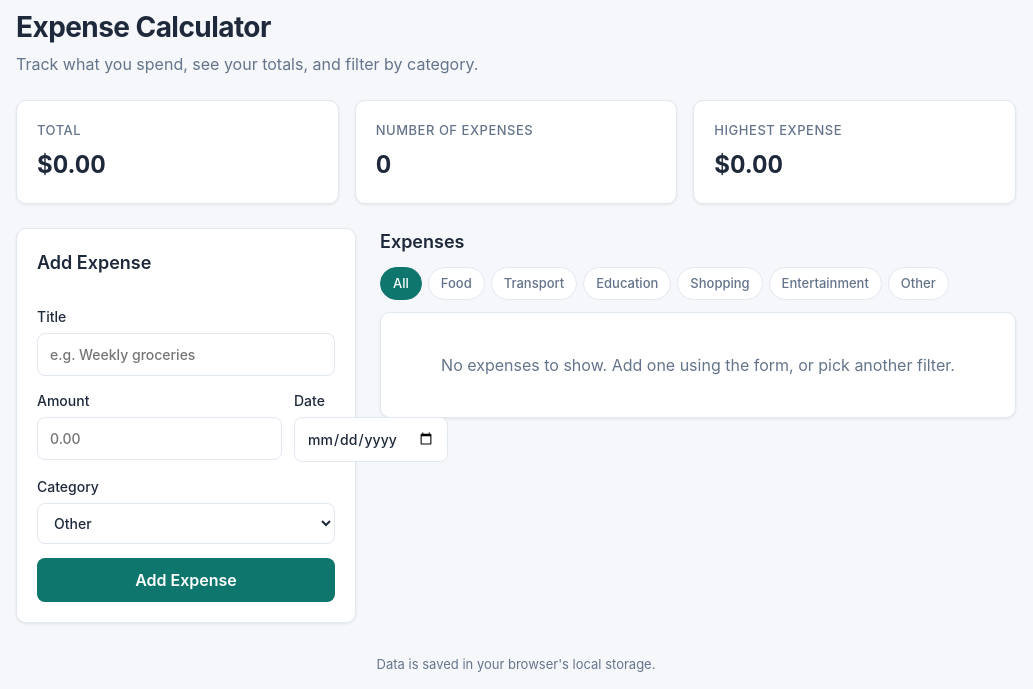
Test: App integration › deletes an expense
The image size is (1033, 689).
In the field labelled "Title": (186, 354) [37,332,335,376], type "Movie ticket"
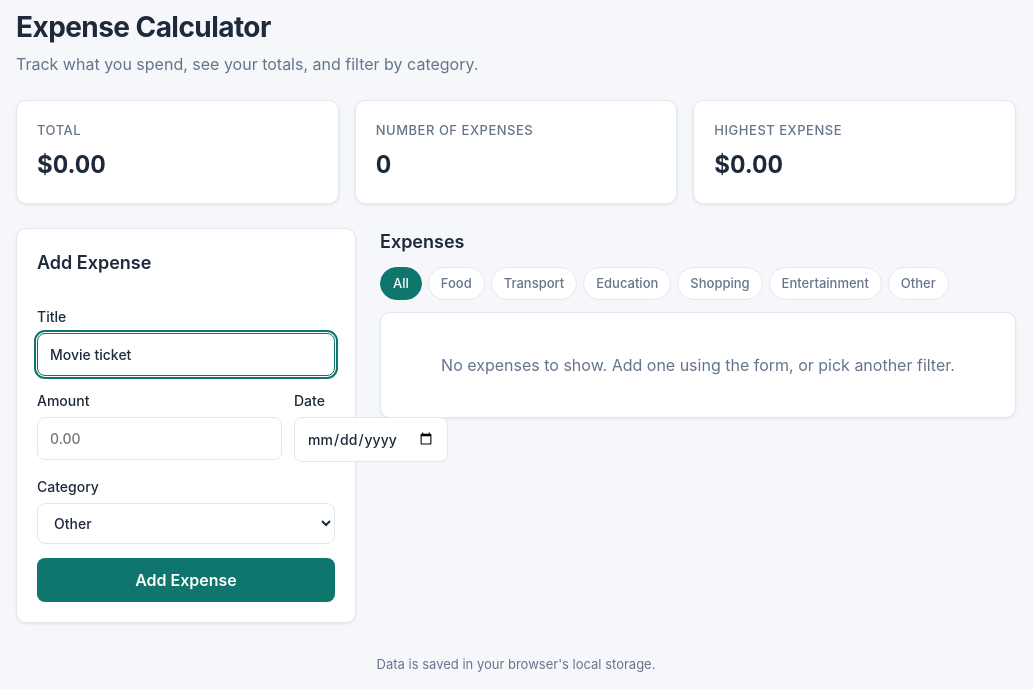
In the number field labelled "Amount": (160, 438) [37,416,282,460], type "3.50"
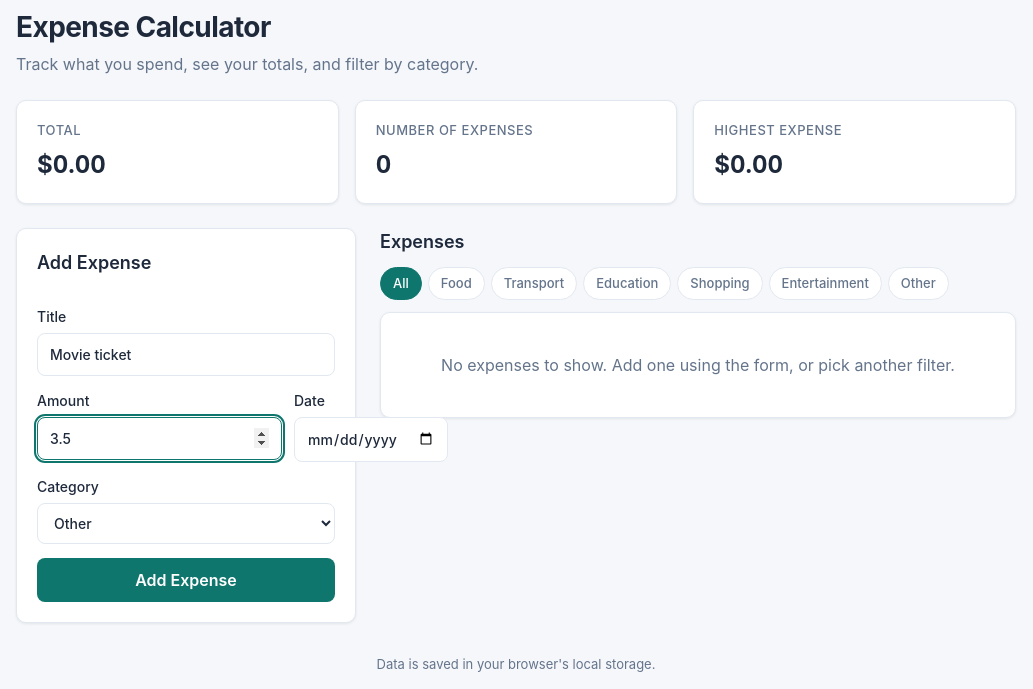
Select "Food" in the dropdown labelled "Category": (186, 523) [37,502,335,544]
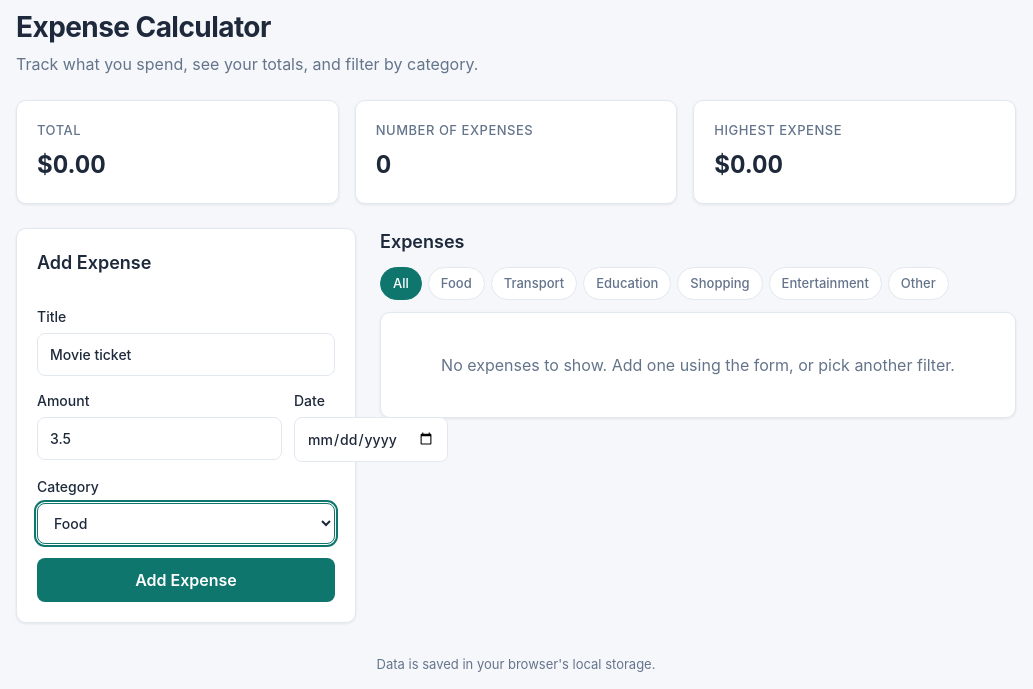
In the date field labelled "Date": (371, 439) [294,416,448,462], type "2026-11-20"
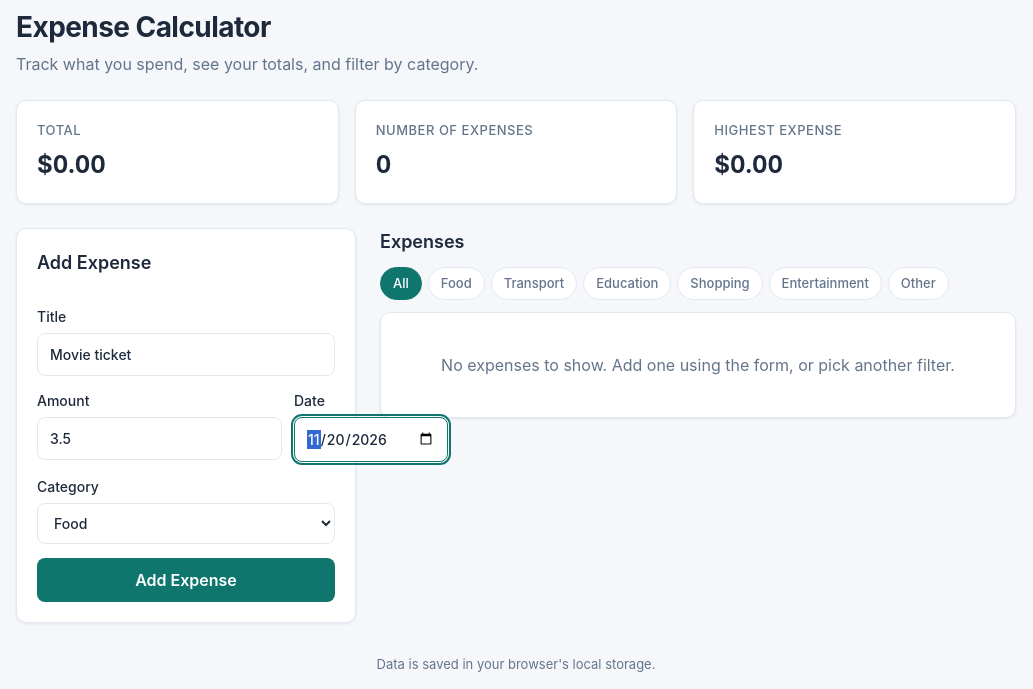
Click the button "Add Expense": (186, 580) [37,558,335,602]
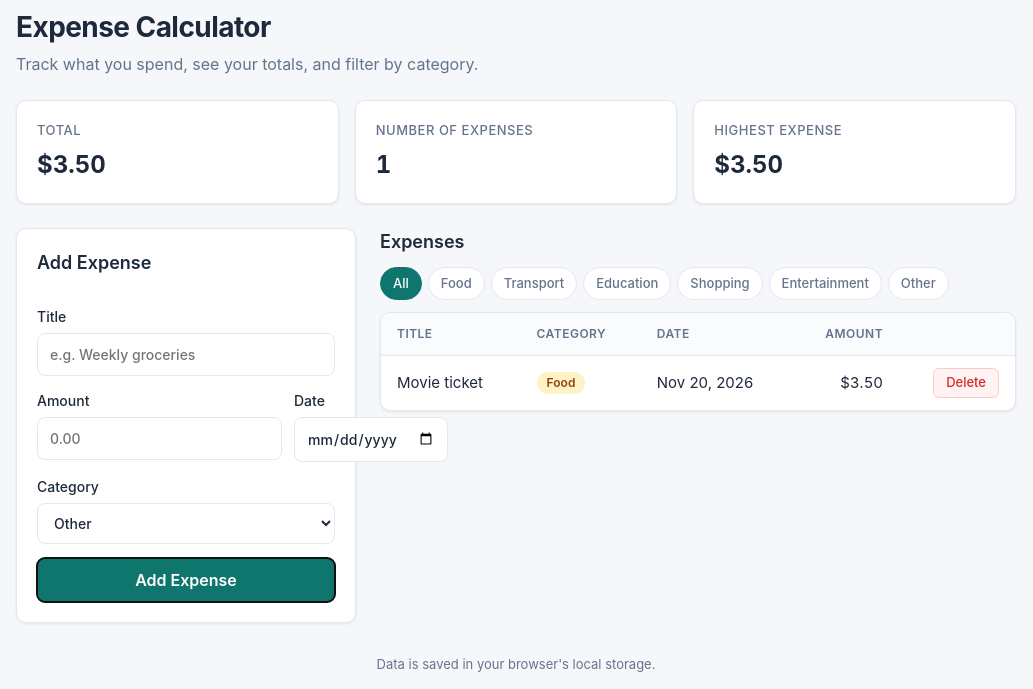
Click the button with aria-label "delete movie ticket": (966, 383) [933,368,999,398]
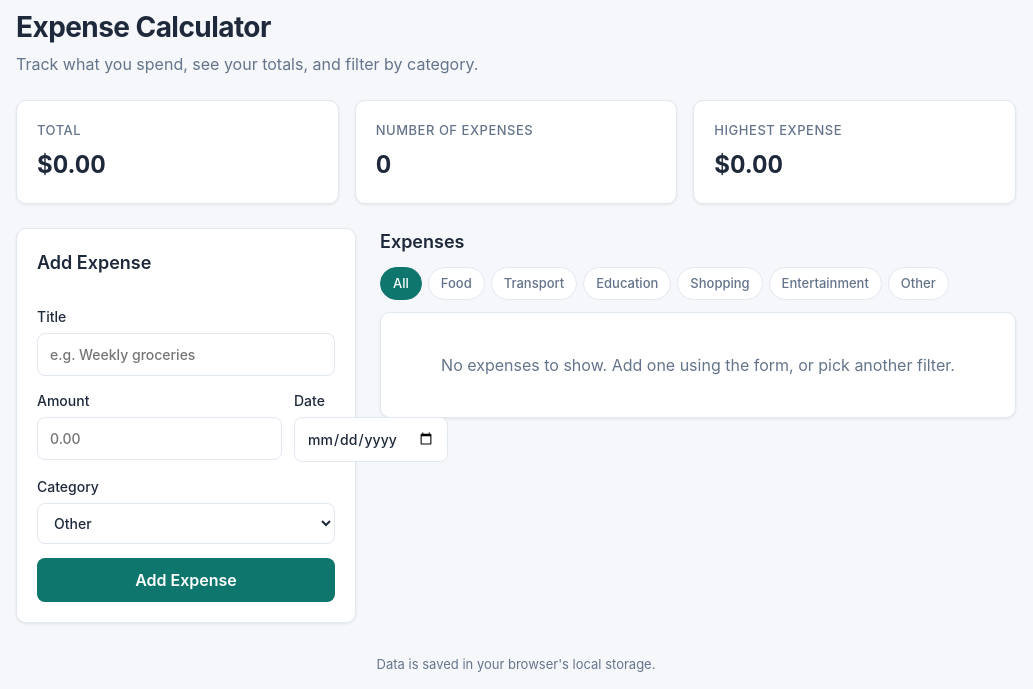
Result: the text "Movie ticket" is gone
Result: the text "No expenses to show" is shown at [441,355,955,375]
